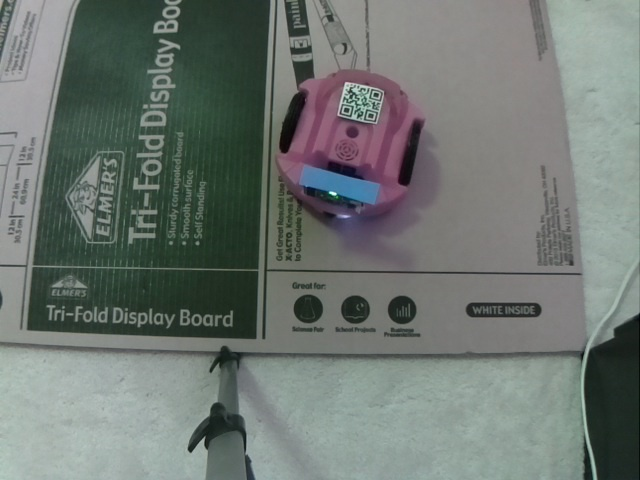board: (299, 161, 382, 208)
chassis: (274, 66, 432, 226)
